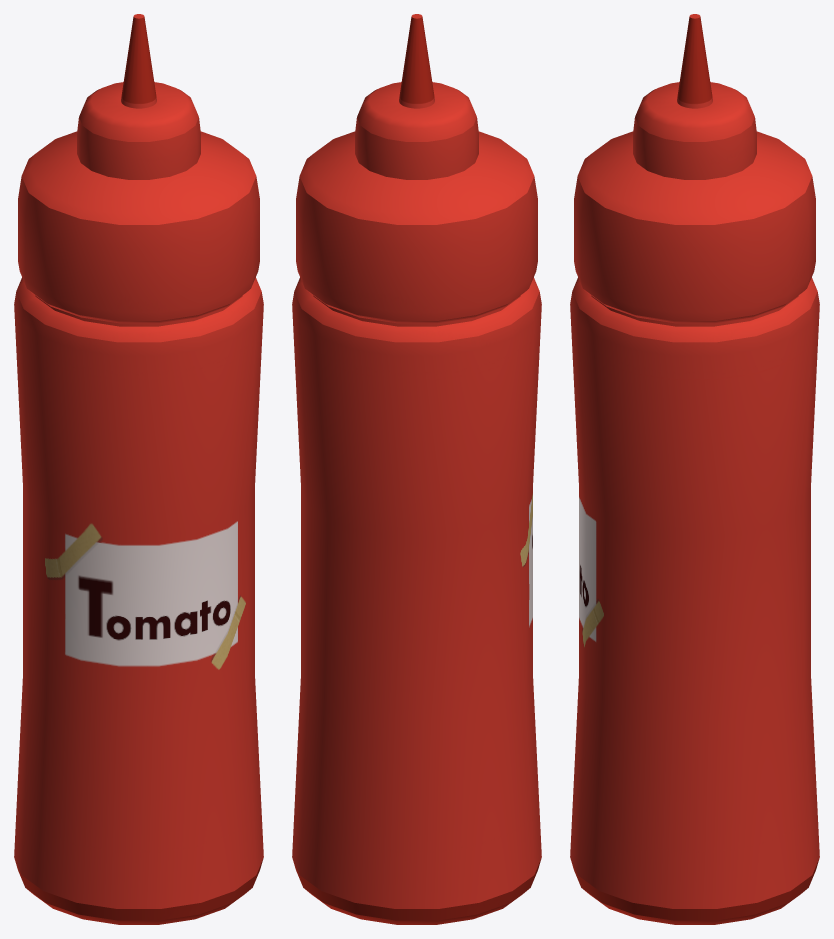
Rendered from Ketchup.fbx.
3 renders of one model, left to right at view 1: azimuth 30°, elevation 25°; view 2: azimuth 150°, elevation 25°; view 3: azimuth 270°, elevation 25°, orthographic.
Parts seen in each view (by area): view 1: Ketchup.Bottle; view 2: Ketchup.Bottle; view 3: Ketchup.Bottle.
Part boxes in pixels (x1,y1,x2,y2): Ketchup.Bottle: [14, 14, 263, 924]; Ketchup.Bottle: [292, 14, 541, 924]; Ketchup.Bottle: [570, 14, 819, 924].
Bounding box in the file's own units: 23.64 × 91.39 × 24.
